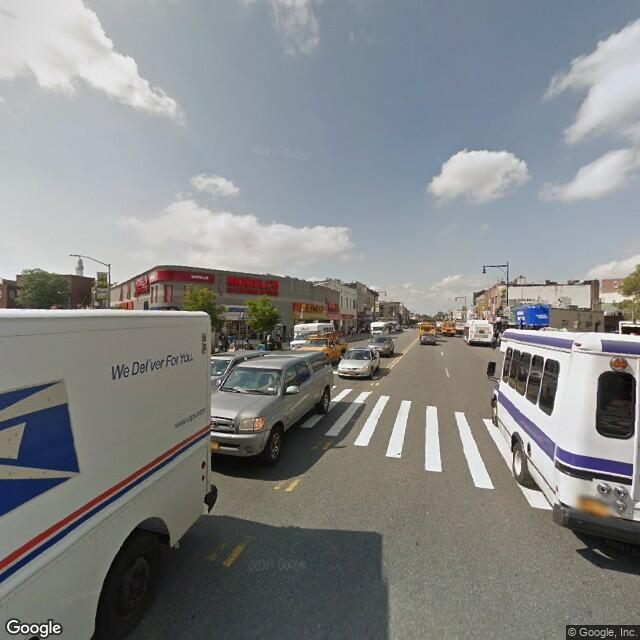litter: (285, 337, 293, 348)
